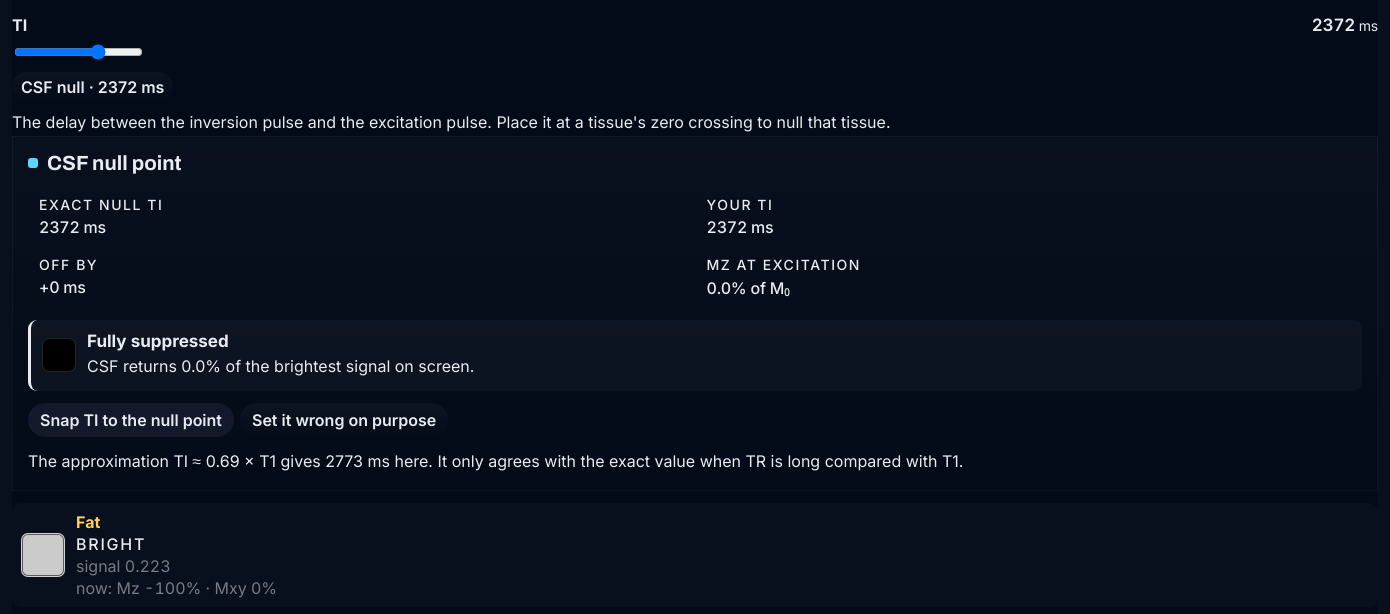
Scenario: parameter controls drive every connected view › changing TI changes how completely a tissue is suppressed
Expected: the text "Fully suppressed" is shown, [87,331,229,351]
Set the slider labelled "TI" to "1200" at (61, 52), box [14,44,143,60]
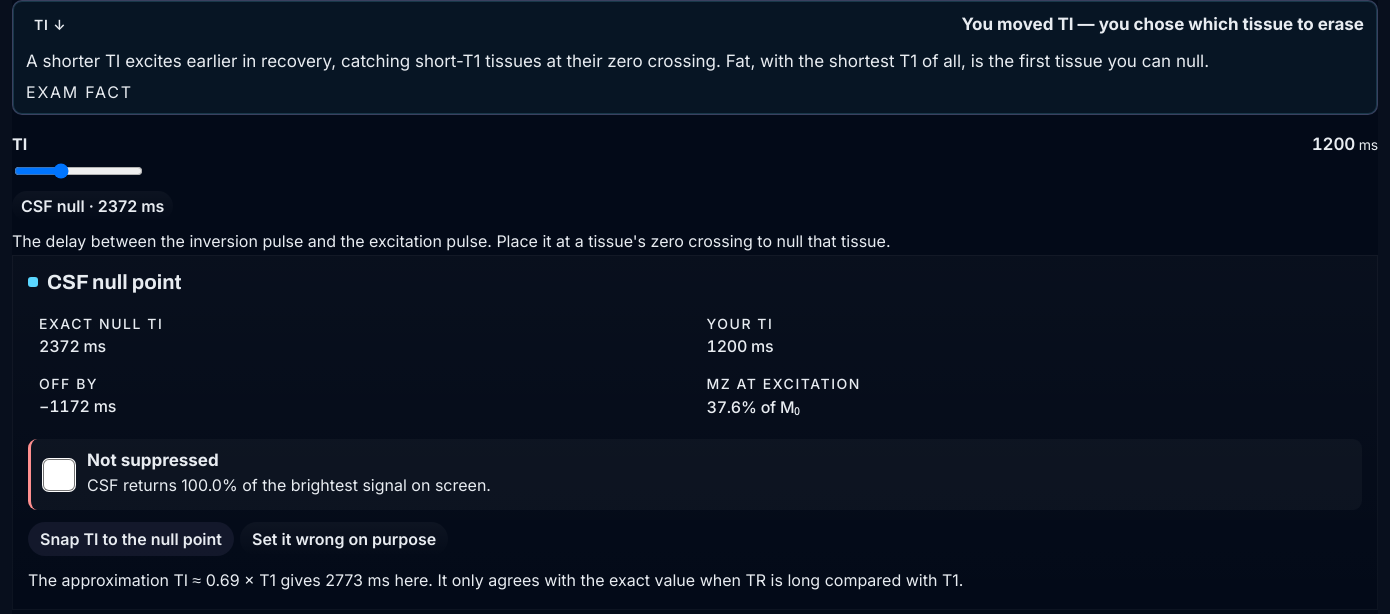
Expected: the button "CSF null · 2372 ms" is shown, [12,192,173,222]
Expected: the text "Not suppressed" is shown, [87,450,219,470]
